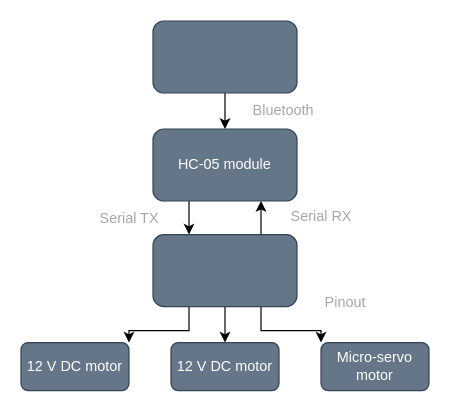
The diagram is 450 pixels wide and 412 high, and some of its shapes have lost their labels. Here are the shapes that lost their labels. From the top down, the centre of each, then its label:
point 224,56: Python keyboard input
point 224,270: Arduino
